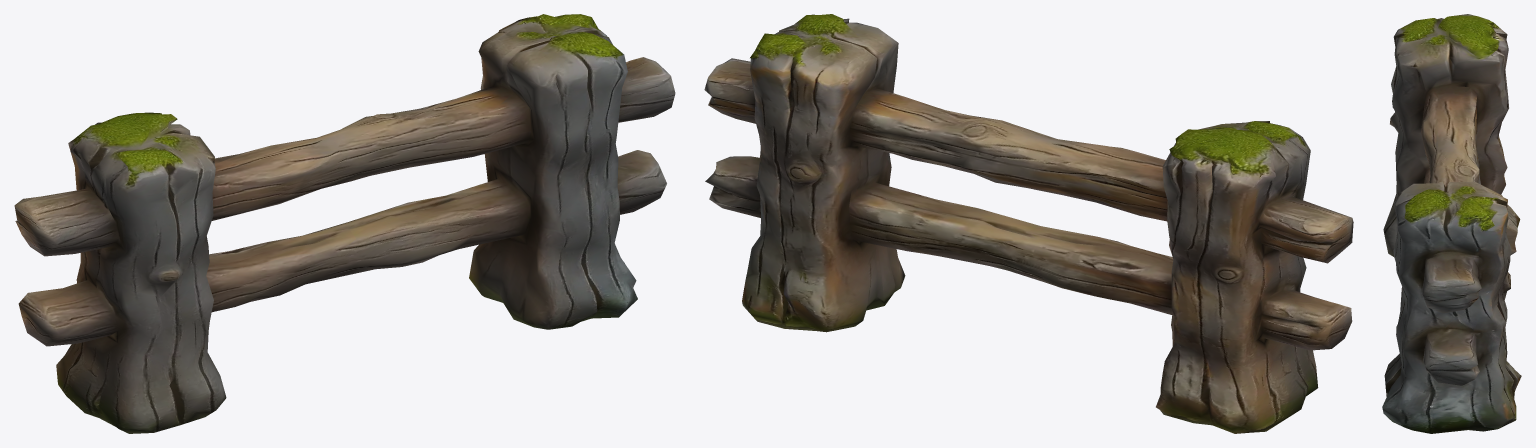
File: fence.glb
3 views of the same model, side by side, from view 1: azimuth 30°, elevation 25°; view 2: azimuth 150°, elevation 25°; view 3: azimuth 270°, elevation 25° (orthographic). The views are drawn at different scales.
Visible parts, largest first — view 1: tripo_node_a573389e-43ef-455a-8196-e9ef2071bb11; view 2: tripo_node_a573389e-43ef-455a-8196-e9ef2071bb11; view 3: tripo_node_a573389e-43ef-455a-8196-e9ef2071bb11.
Part boxes in pixels (x1,y1,x2,y2): tripo_node_a573389e-43ef-455a-8196-e9ef2071bb11: (14, 14, 675, 433); tripo_node_a573389e-43ef-455a-8196-e9ef2071bb11: (704, 14, 1353, 433); tripo_node_a573389e-43ef-455a-8196-e9ef2071bb11: (1382, 14, 1521, 433).
Bounding box in the file's own units: 0.79 × 0.326 × 0.1842.
1 material, 1 textured.
